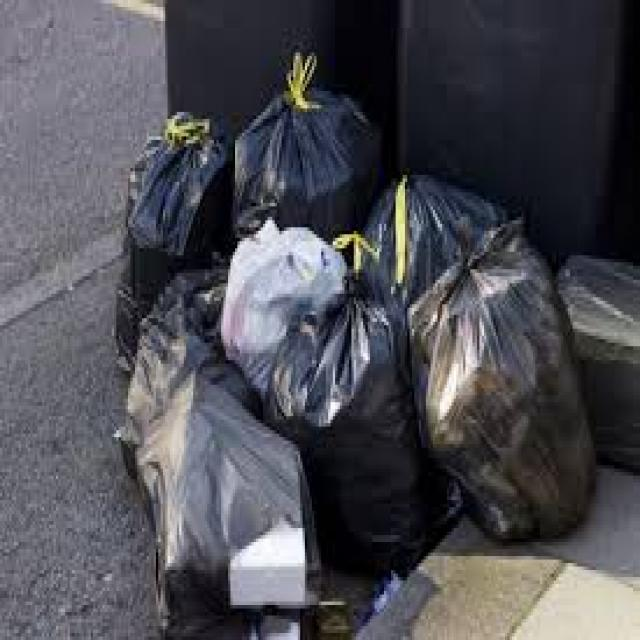plastic_bag: (416, 247, 593, 495), (294, 277, 418, 575), (152, 382, 311, 613), (122, 267, 243, 466), (115, 138, 236, 334), (234, 92, 404, 221), (225, 218, 343, 375)
